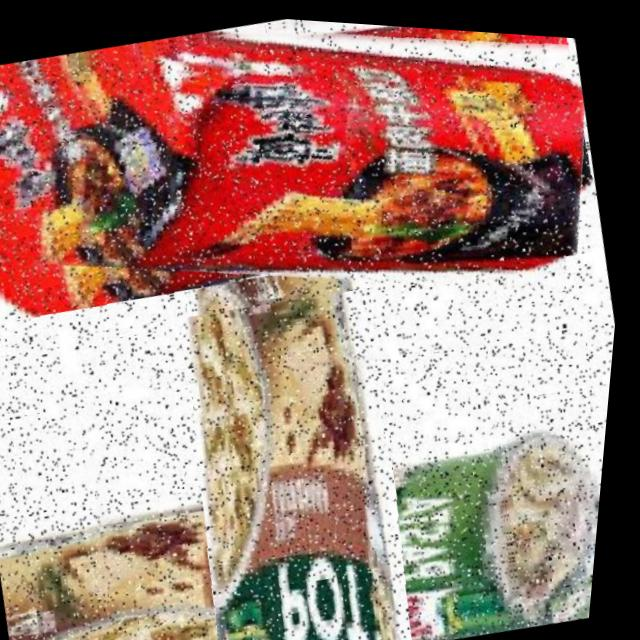Miscellaneous: (0, 0, 622, 385), (69, 304, 555, 640)
